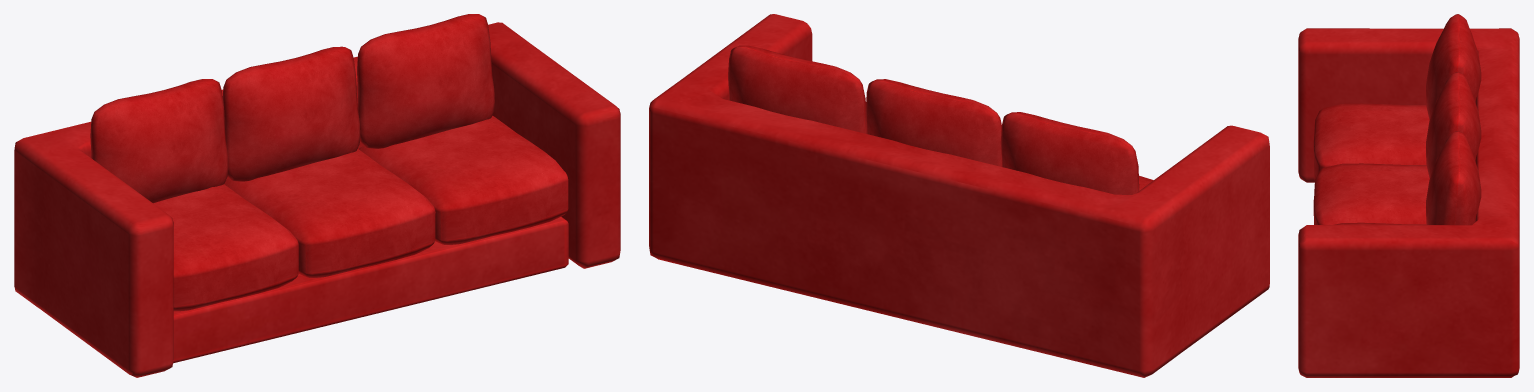
Rendered from Red Sofa.fbx.
3 views of the same model, side by side, from view 1: azimuth 30°, elevation 25°; view 2: azimuth 150°, elevation 25°; view 3: azimuth 270°, elevation 25° (orthographic). The views are drawn at different scales.
Visible parts, largest first — view 1: Red_sofa; view 2: Red_sofa; view 3: Red_sofa.
Part boxes in pixels (<box>): Red_sofa: <box>14,14,620,377</box>; Red_sofa: <box>649,14,1269,377</box>; Red_sofa: <box>1298,14,1519,377</box>.
Bounding box in the file's own units: 254 × 98.84 × 110.
1 material, 1 textured.
